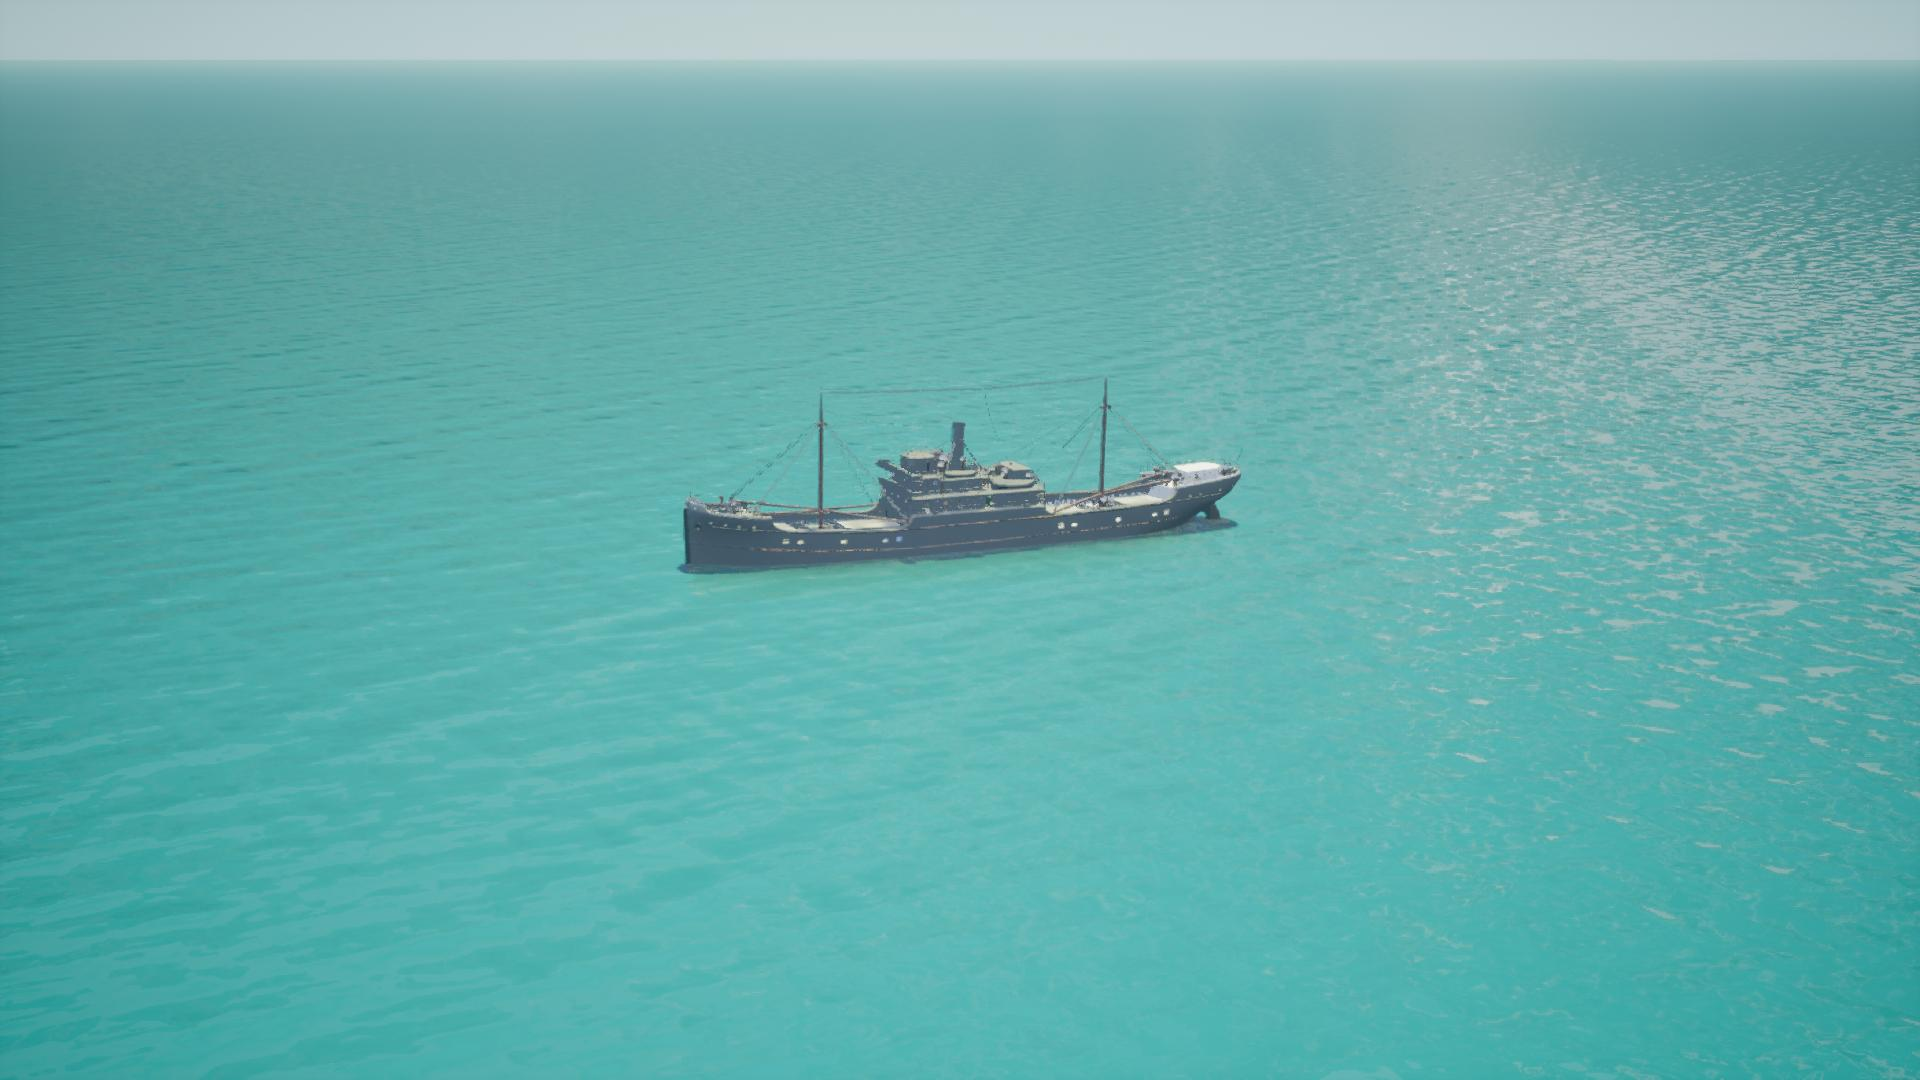Fishing Boat: (680, 386, 1244, 574)
